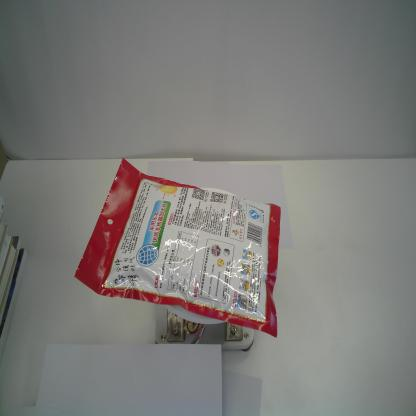Instant Drink: (73, 156, 282, 342)
